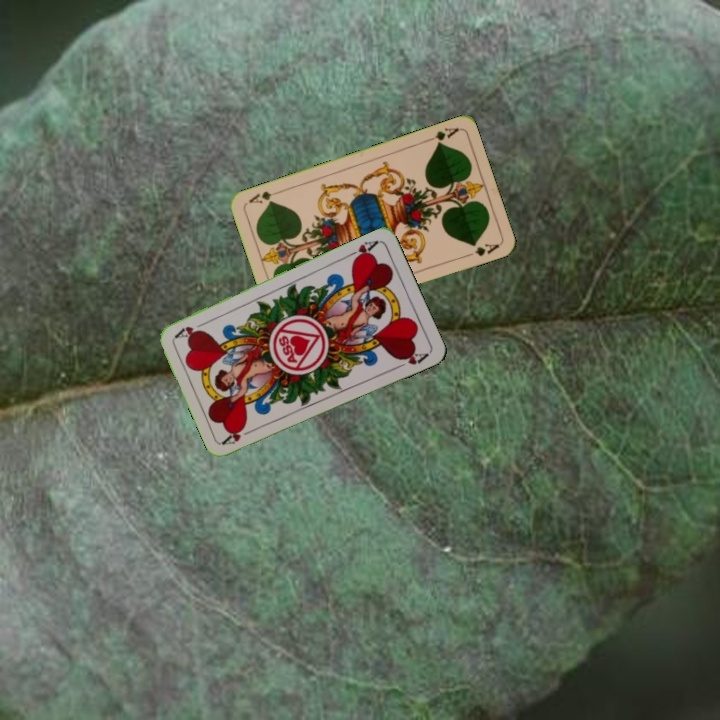GA: (422, 123, 461, 147)
HA: (343, 236, 381, 264), (219, 424, 258, 447)
